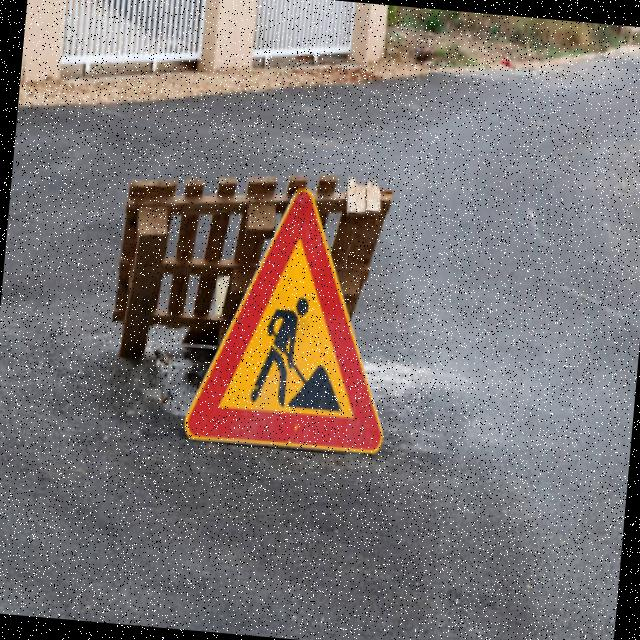road_work: (185, 180, 406, 471)
